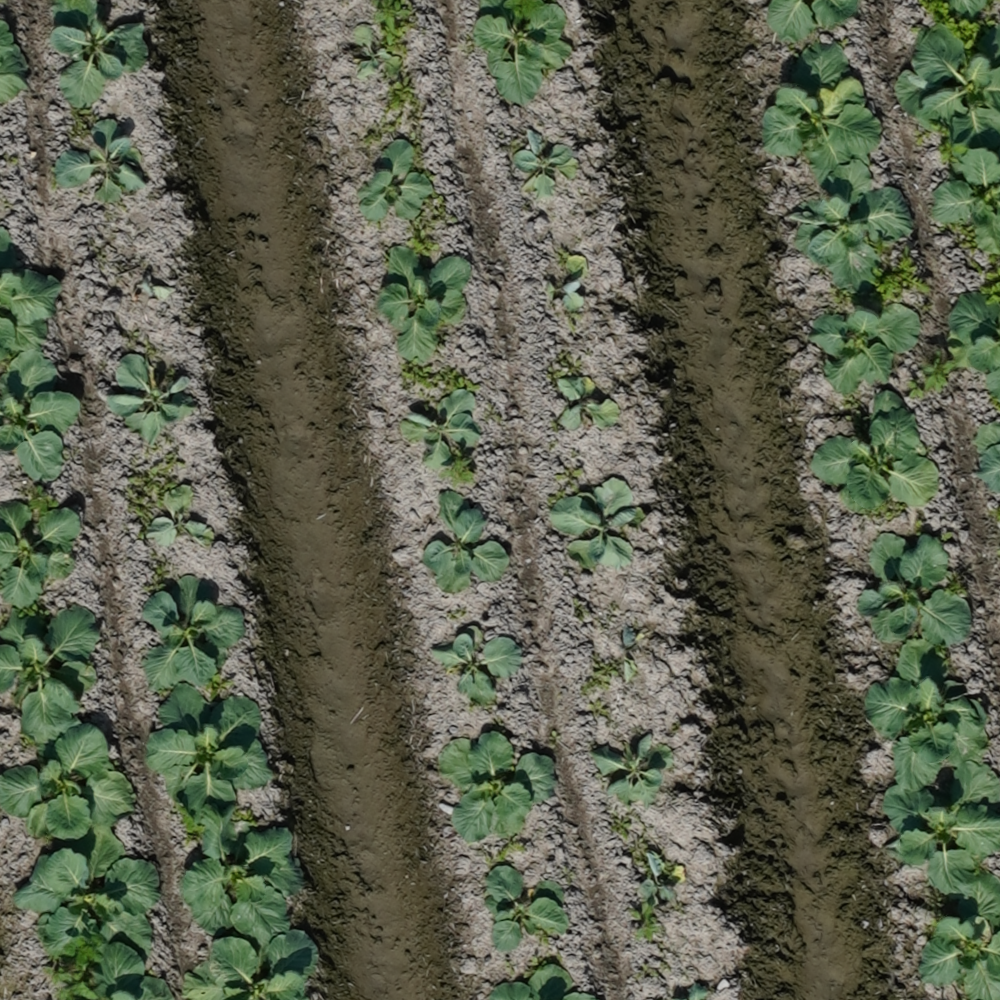Cabbage: (13, 825, 161, 964), (863, 639, 990, 790), (179, 804, 312, 947), (761, 37, 882, 181), (785, 160, 914, 293), (144, 683, 273, 816), (883, 760, 1000, 898), (808, 391, 937, 514), (0, 724, 136, 840), (0, 605, 103, 743), (437, 732, 558, 846), (894, 23, 1000, 150), (855, 532, 971, 646), (373, 244, 474, 363), (143, 576, 245, 692), (49, 0, 149, 110), (0, 349, 81, 483), (474, 0, 574, 108), (919, 868, 1000, 1000), (809, 304, 920, 396), (180, 930, 319, 1000), (421, 490, 510, 593), (549, 477, 645, 572), (0, 499, 81, 606), (106, 353, 199, 446), (0, 226, 62, 362), (483, 865, 572, 954), (55, 118, 147, 204), (430, 625, 524, 707), (930, 149, 1000, 256), (356, 139, 438, 224), (590, 733, 674, 814), (400, 390, 481, 468), (942, 291, 1000, 397), (511, 128, 579, 204), (89, 943, 175, 1000), (146, 484, 215, 555), (766, 0, 859, 47), (42, 935, 108, 1000), (484, 963, 598, 1000), (556, 378, 620, 430), (547, 256, 588, 335), (0, 17, 31, 106), (637, 852, 685, 908), (351, 22, 394, 80), (972, 419, 1000, 494)
